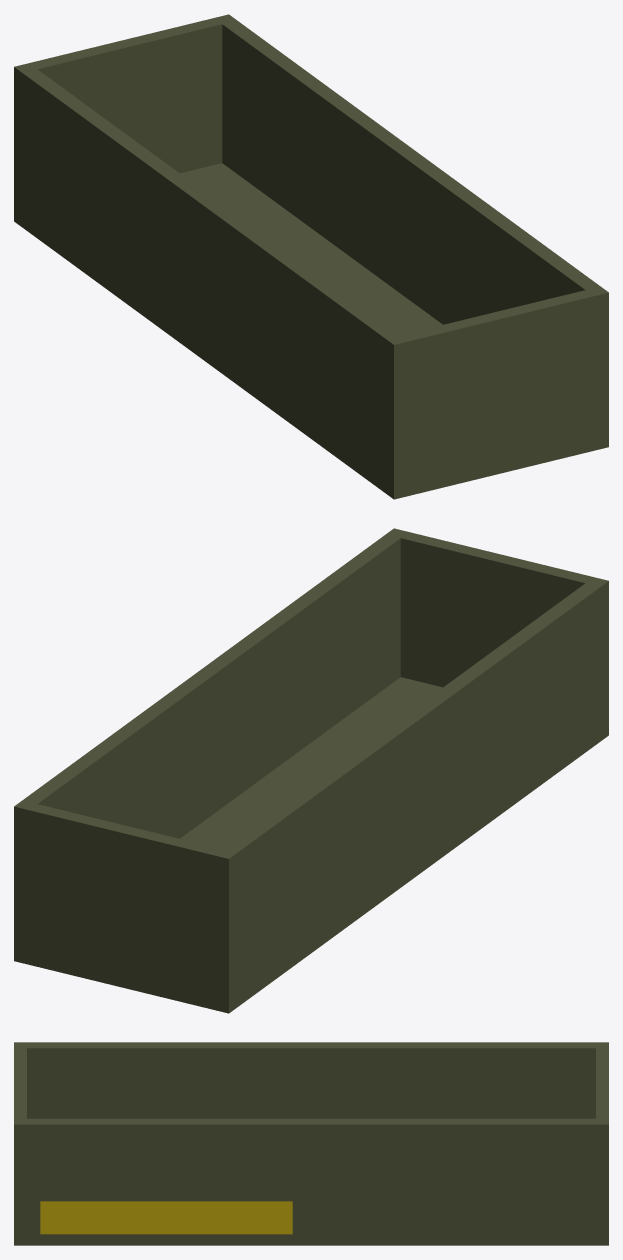
Rendered from crate.glb.
3 views of the same model, one above another, from view 1: azimuth 30°, elevation 25°; view 2: azimuth 150°, elevation 25°; view 3: azimuth 270°, elevation 25° (orthographic). The views are drawn at different scales.
Parts seen in each view (by area): view 1: Cube; view 2: Cube; view 3: Cube.
Part boxes in pixels (x1,y1,x2,y2): Cube: [14, 14, 608, 499]; Cube: [14, 528, 608, 1013]; Cube: [14, 1042, 608, 1245].
Size of the model in its own units: 0.6158 by 0.4233 by 1.89.
1 material, 1 textured.
